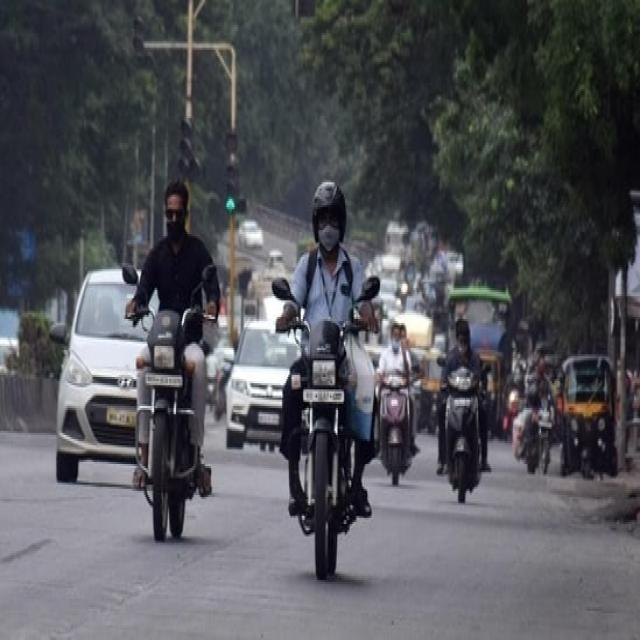bike: (270, 176, 379, 572), (122, 176, 212, 539), (434, 317, 485, 499)
rikshaw: (558, 356, 614, 476)
